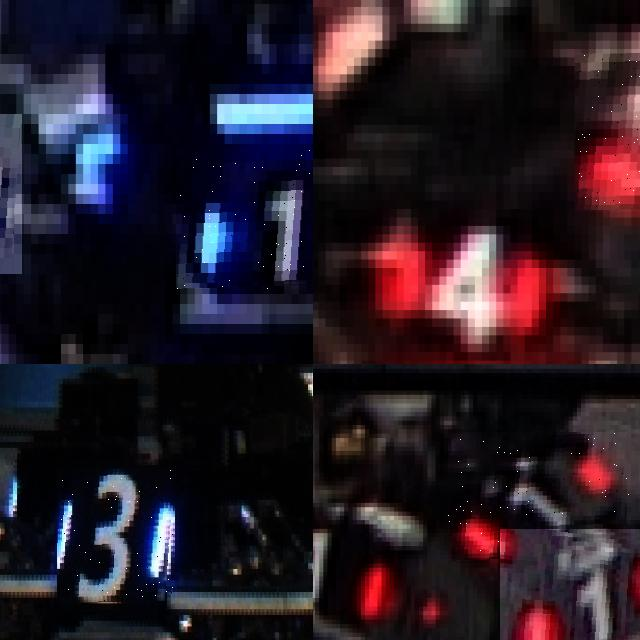B1: (176, 149, 313, 289), (0, 114, 23, 274)
B3: (57, 468, 175, 604)
R1: (448, 432, 631, 561), (500, 529, 640, 640), (313, 489, 389, 640)
R4: (372, 201, 556, 352), (574, 53, 640, 213)
